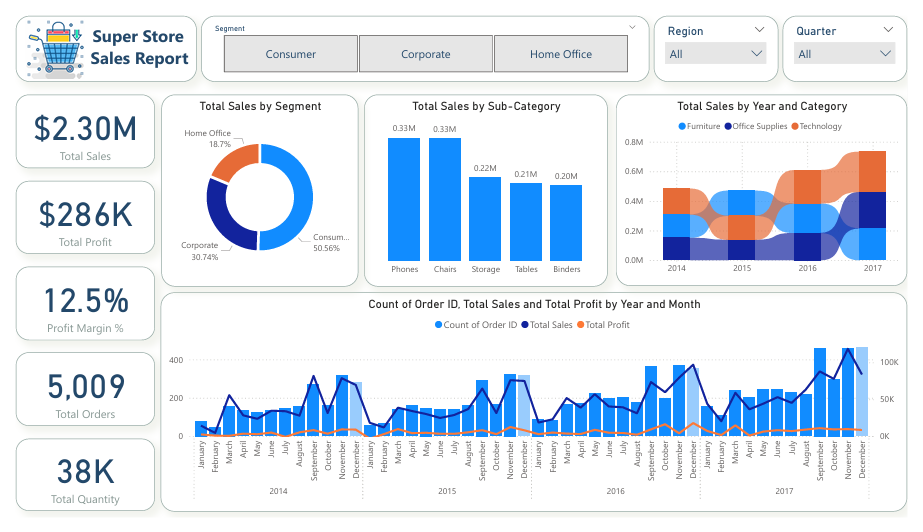

The page's visual inventory and layout, read from the dashboard file:
{"tool":"powerbi","page":{"name":"Page 1","canvas":[1280,720],"ordinal":0},"visuals":[{"type":"textbox","box":[0,0,260,95],"z":0},{"type":"slicer","fields":{"Values":["Superstore_Cleaned.Segment"]},"box":[266.2,0,643.8,95],"z":1000},{"type":"slicer","fields":{"Values":["Superstore_Cleaned.Region"]},"box":[915.9,0,178.8,95.3],"z":2000},{"type":"slicer","fields":{"Values":["Calendar.Quarter"]},"box":[1101.2,0,178.8,95.3],"z":3000},{"type":"card","fields":{"Values":["DAXs.Total Sales"]},"box":[0,113.3,200,105.6],"z":4000},{"type":"card","fields":{"Values":["DAXs.Total Profit"]},"box":[0,236.7,200,105.6],"z":5000},{"type":"card","fields":{"Values":["DAXs.Profit Margin %"]},"box":[0,360,200,105.6],"z":6000},{"type":"card","fields":{"Values":["DAXs.Total Quantity"]},"box":[0,606.7,200,104.4],"z":7000},{"type":"card","fields":{"Values":["DAXs.Total Orders"]},"box":[0,483.3,200,105.6],"z":8000},{"type":"lineStackedColumnComboChart","fields":{"Category":["Superstore_Cleaned.Year-Month.Variation.Date Hierarchy.Year","Superstore_Cleaned.Year-Month.Variation.Date Hierarchy.Month"],"Y2":["DAXs.Total Sales","DAXs.Total Profit"],"Y":["CountNonNull(Superstore_Cleaned.Order ID)"]},"box":[208.3,396.7,1071.7,315],"z":9000},{"type":"clusteredColumnChart","fields":{"Category":["Superstore_Cleaned.Sub-Category"],"Y":["DAXs.Total Sales"]},"box":[500,113.3,350,275.6],"z":10000},{"type":"donutChart","fields":{"Category":["Superstore_Cleaned.Segment"],"Y":["DAXs.Total Sales"]},"box":[208.9,113.3,283.3,275.6],"z":11000},{"type":"image","box":[0,0,113.3,95],"z":12001},{"type":"ribbonChart","fields":{"Category":["Superstore_Cleaned.Year-Month.Variation.Date Hierarchy.Year"],"Series":["Superstore_Cleaned.Category"],"Y":["DAXs.Total Sales"]},"box":[861.7,113.3,418.3,275],"z":12002}]}

Visuals, with their boxes in screenshot pixels (x1, y1, x2, y2), scaled from the page's 1280x720 canvas onto the 923x532 screenshot:
textbox: <bbox>0, 0, 187, 70</bbox>
slicer - Superstore_Cleaned.Segment: <bbox>192, 0, 656, 70</bbox>
slicer - Superstore_Cleaned.Region: <bbox>660, 0, 789, 70</bbox>
slicer - Calendar.Quarter: <bbox>794, 0, 922, 70</bbox>
card - DAXs.Total Sales: <bbox>0, 84, 144, 162</bbox>
card - DAXs.Total Profit: <bbox>0, 175, 144, 253</bbox>
card - DAXs.Profit Margin %: <bbox>0, 266, 144, 344</bbox>
card - DAXs.Total Quantity: <bbox>0, 448, 144, 525</bbox>
card - DAXs.Total Orders: <bbox>0, 357, 144, 435</bbox>
lineStackedColumnComboChart - Superstore_Cleaned.Year-Month.Variation.Date Hierarchy.Year x Superstore_Cleaned.Year-Month.Variation.Date Hierarchy.Month: <bbox>150, 293, 922, 526</bbox>
clusteredColumnChart - Superstore_Cleaned.Sub-Category x DAXs.Total Sales: <bbox>361, 84, 613, 287</bbox>
donutChart - Superstore_Cleaned.Segment x DAXs.Total Sales: <bbox>151, 84, 355, 287</bbox>
image: <bbox>0, 0, 82, 70</bbox>
ribbonChart - Superstore_Cleaned.Year-Month.Variation.Date Hierarchy.Year x Superstore_Cleaned.Category: <bbox>621, 84, 922, 287</bbox>
